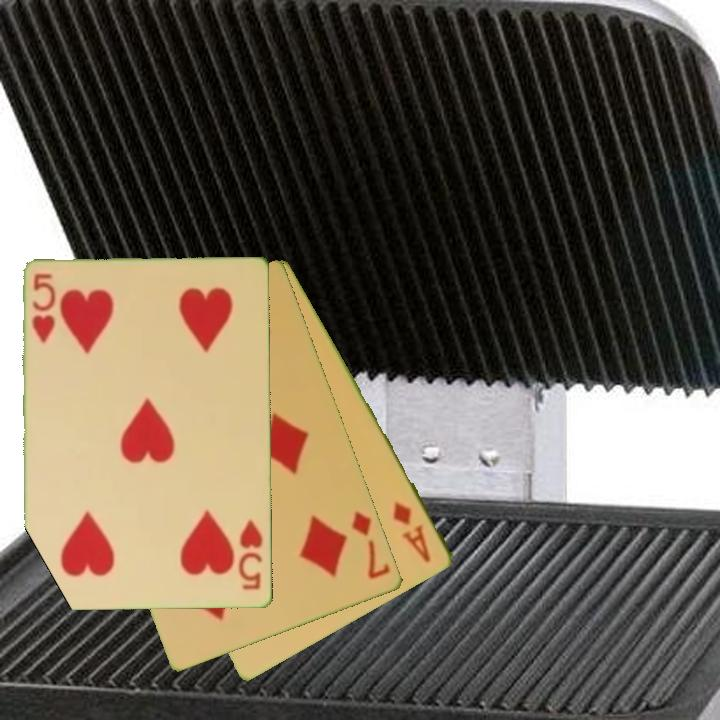5h: (235, 516, 266, 593), (29, 270, 59, 346)
7d: (348, 507, 394, 583)
Ad: (389, 498, 434, 566)
